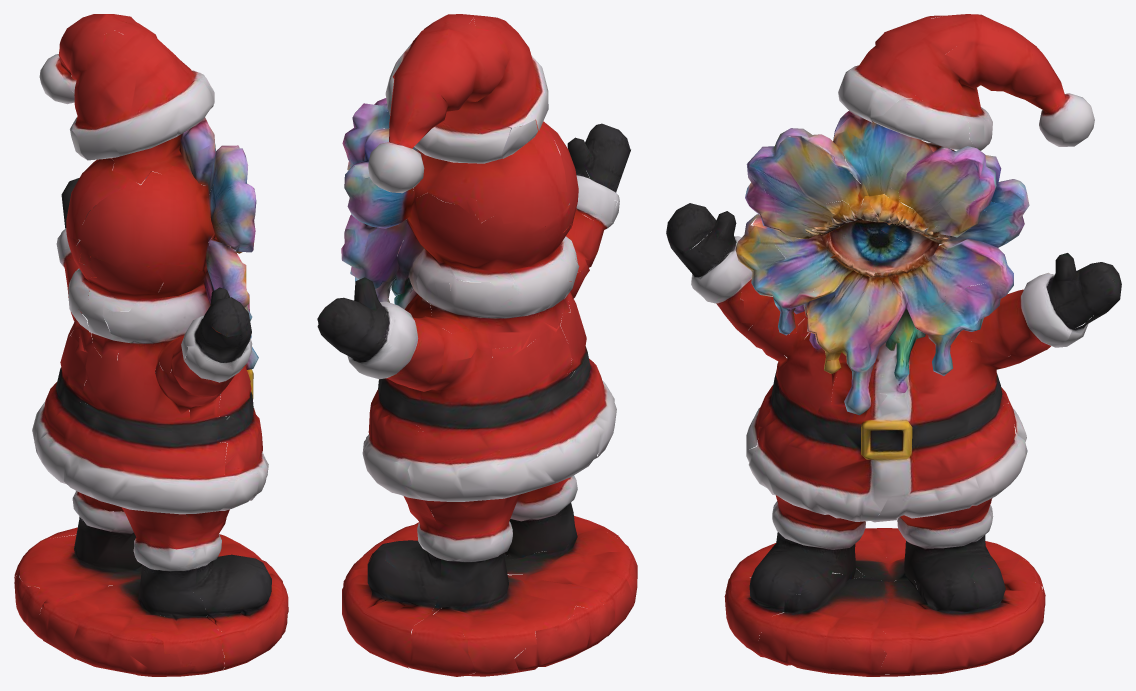
File: lt_santa.glb
3 views of the same model, side by side, from view 1: azimuth 30°, elevation 25°; view 2: azimuth 150°, elevation 25°; view 3: azimuth 270°, elevation 25° (orthographic). The views are drawn at different scales.
Visible parts, largest first — view 1: tripo_node_1b38c4e6-aa64-4d0f-aba7-e82e82a57e94; view 2: tripo_node_1b38c4e6-aa64-4d0f-aba7-e82e82a57e94; view 3: tripo_node_1b38c4e6-aa64-4d0f-aba7-e82e82a57e94.
Part boxes in pixels (x1,y1,x2,y2): tripo_node_1b38c4e6-aa64-4d0f-aba7-e82e82a57e94: (14,14,288,676); tripo_node_1b38c4e6-aa64-4d0f-aba7-e82e82a57e94: (317,14,637,676); tripo_node_1b38c4e6-aa64-4d0f-aba7-e82e82a57e94: (666,14,1121,676).
Bounding box in the file's own units: 0.4044 × 1 × 0.6787.
Materials: 1 (1 with a texture image).
